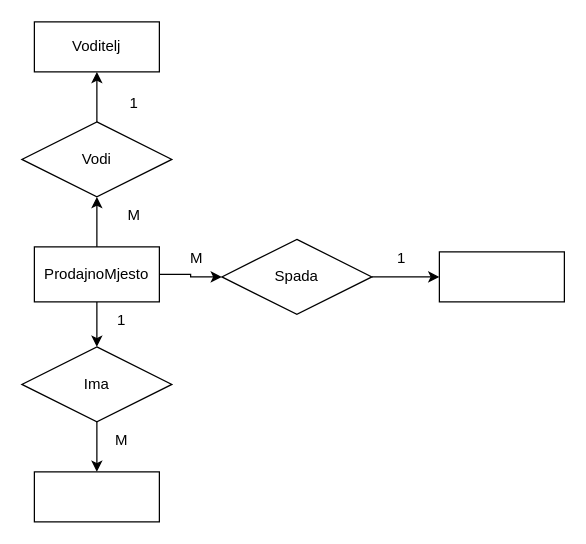
Image size: 586x544. Some labels were removed from this diagram. Here are the shapes that lost their labels. From the top down, the box of each, then its label:
(438, 251, 564, 302): GrupaProizvoda
(33, 471, 159, 522): Proizvođač
